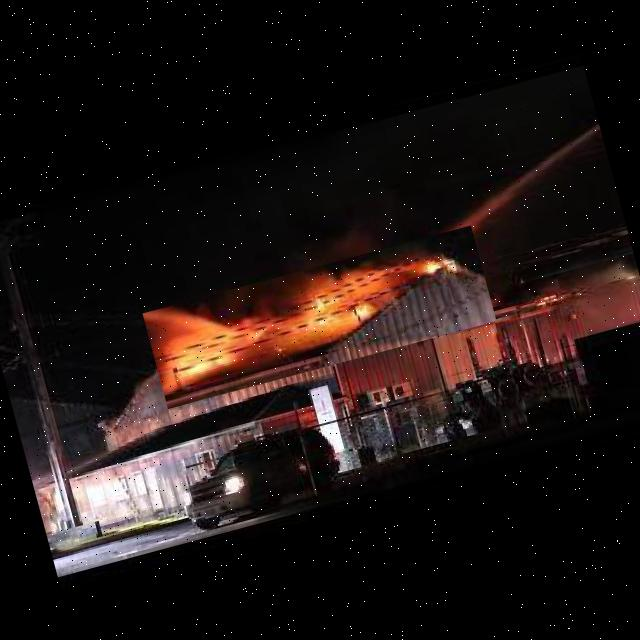fire: (142, 224, 496, 408)
